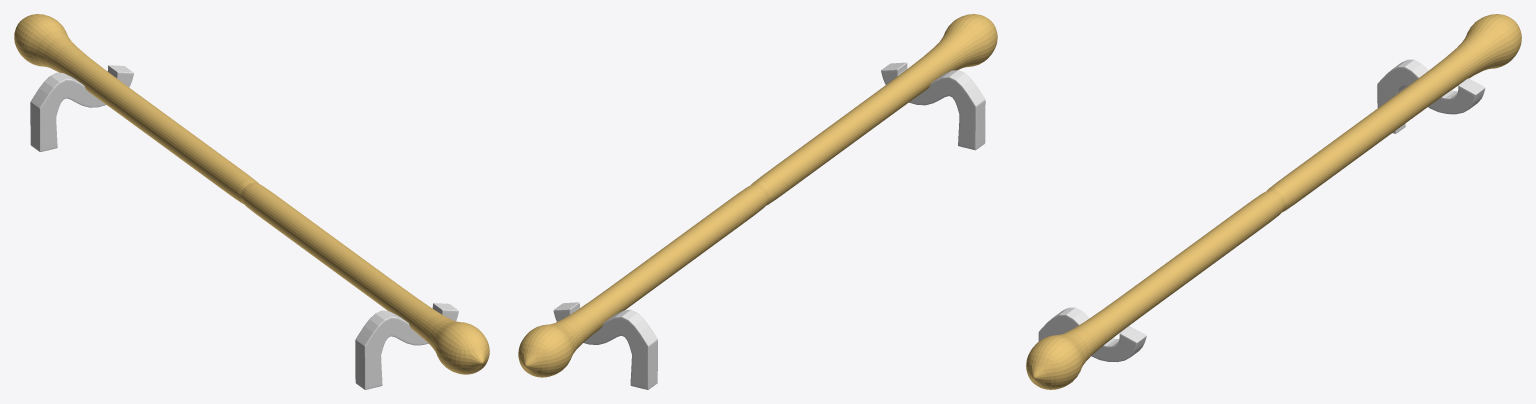
The model's file is Curtain1.fbx.
3 renders of one model, left to right at view 1: azimuth 30°, elevation 25°; view 2: azimuth 150°, elevation 25°; view 3: azimuth 330°, elevation 25°, orthographic. The views are drawn at different scales.
Visible parts, largest first — view 1: Curtain_rod, Curtain_holder.001, Curtain_holder; view 2: Curtain_rod, Curtain_holder, Curtain_holder.001; view 3: Curtain_rod, Curtain_holder.001, Curtain_holder.
Boxes of the visible parts, bbox=[...] form: Curtain_rod: bbox=[14, 14, 489, 374]; Curtain_holder.001: bbox=[30, 65, 133, 151]; Curtain_holder: bbox=[355, 303, 458, 389]; Curtain_rod: bbox=[518, 14, 997, 377]; Curtain_holder: bbox=[881, 62, 985, 150]; Curtain_holder.001: bbox=[553, 302, 657, 389]; Curtain_rod: bbox=[1026, 14, 1521, 389]; Curtain_holder.001: bbox=[1377, 59, 1485, 133]; Curtain_holder: bbox=[1038, 307, 1146, 362].
Bounding box in the file's own units: 25.05 × 20.54 × 211.
